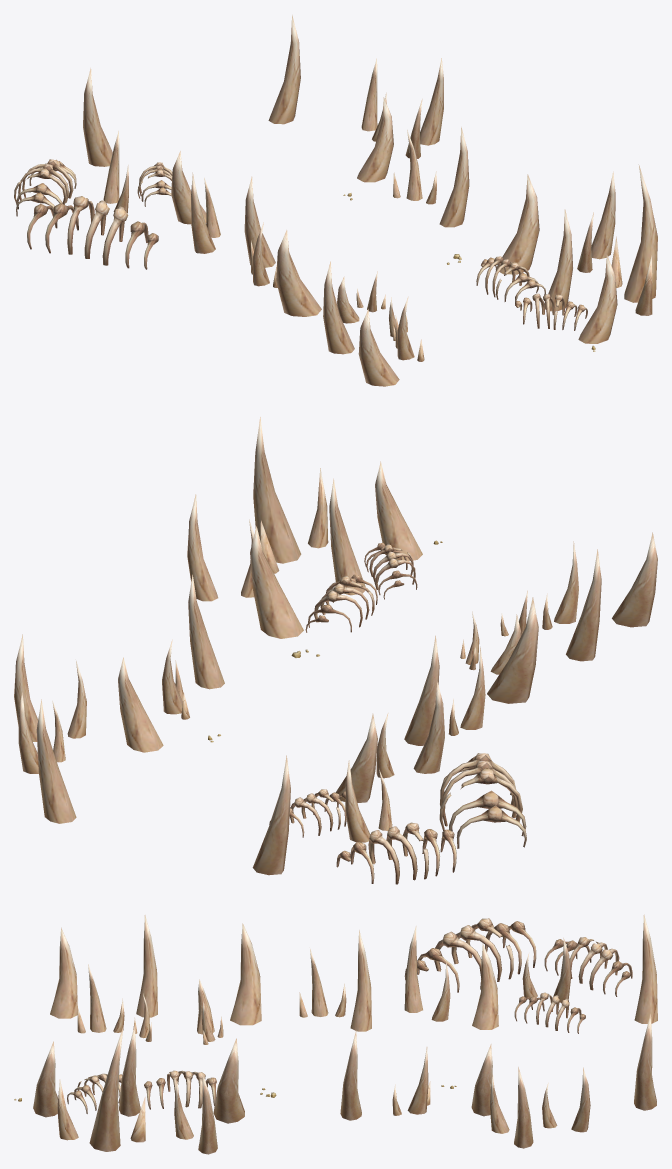
Rendered from area_05_14.fbx.
3 renders of one model, top to bottom at view 1: azimuth 30°, elevation 25°; view 2: azimuth 150°, elevation 25°; view 3: azimuth 270°, elevation 25°, orthographic. The views are drawn at different scales.
Visible parts, largest first — view 1: area_05_14; view 2: area_05_14; view 3: area_05_14.
Part boxes in pixels (x1,y1,x2,y2): area_05_14: (14, 15, 657, 386); area_05_14: (14, 417, 657, 884); area_05_14: (14, 914, 657, 1154).
Size of the model in its own units: 34.51 by 9.64 by 44.39.
